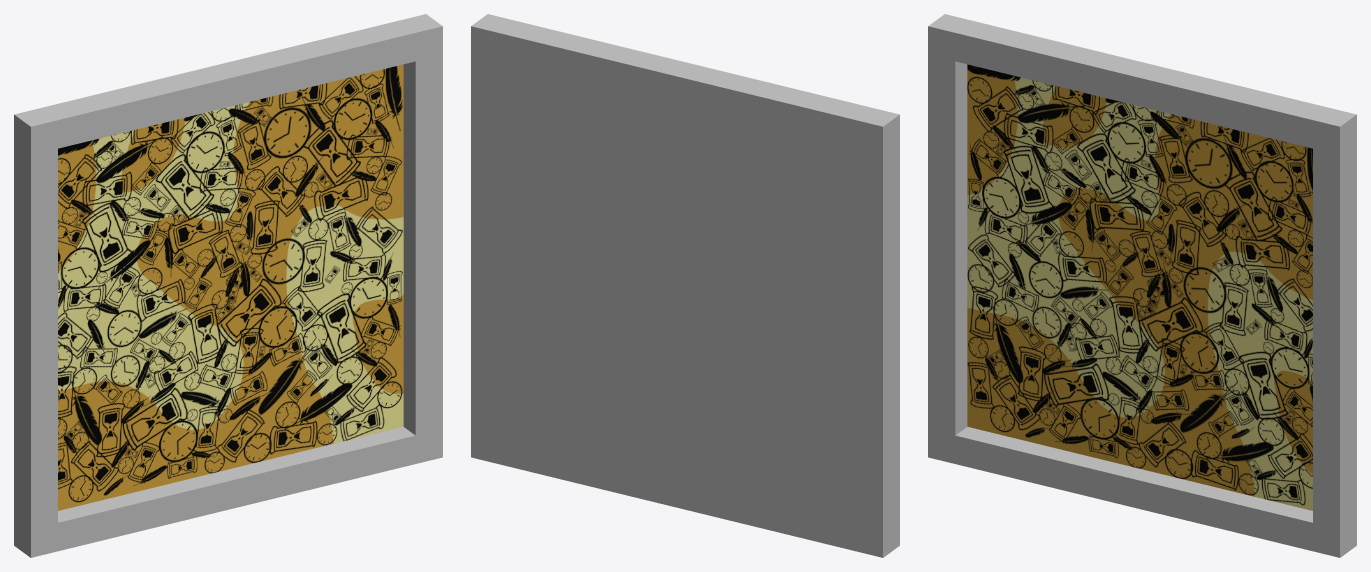
File: Where's waldo minigame.fbx
3 views of the same model, side by side, from view 1: azimuth 30°, elevation 25°; view 2: azimuth 150°, elevation 25°; view 3: azimuth 330°, elevation 25° (orthographic).
Parts seen in each view (by area): view 1: Painting, Painting Frame; view 2: Painting Frame; view 3: Painting, Painting Frame.
Boxes of the visible parts, x1,y1,x2,y2 form: Painting: (58,64,403,510); Painting Frame: (14,14,442,557); Painting Frame: (471,14,899,557); Painting: (967,64,1312,510); Painting Frame: (928,14,1356,557).
Size of the model in its own units: 1.76 by 1.76 by 0.1238.
